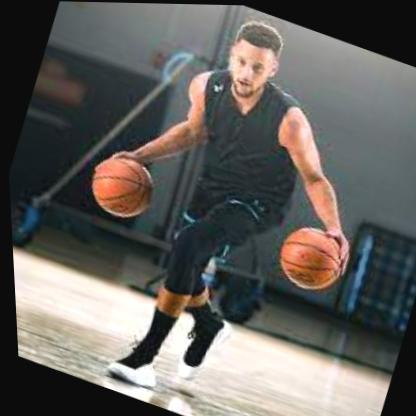basketball: (266, 218, 351, 300), (80, 149, 162, 227)
